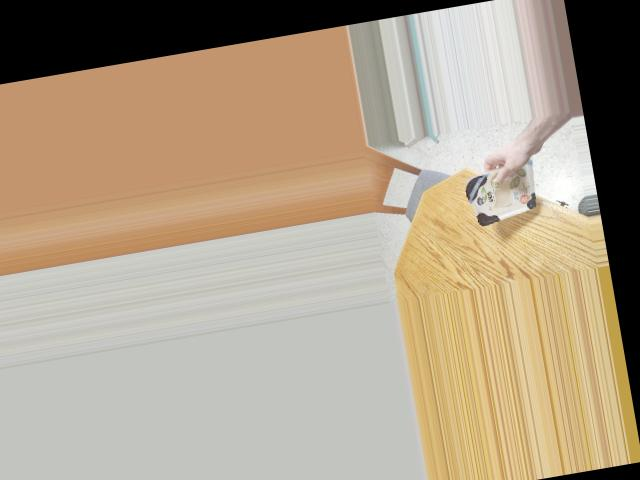cheese: (459, 159, 556, 226)
